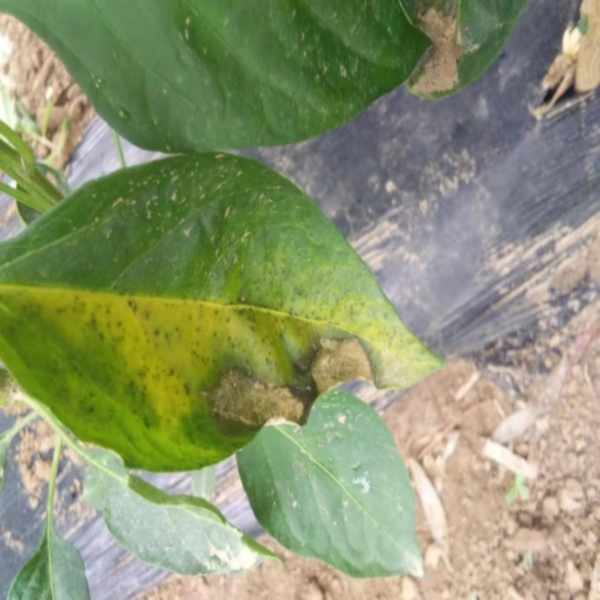blight: (199, 366, 305, 428), (307, 332, 372, 394), (190, 534, 270, 573)
